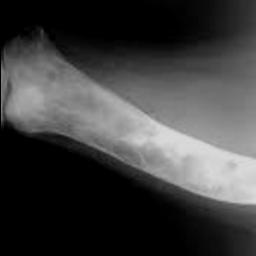cancer: (1, 24, 256, 206)
